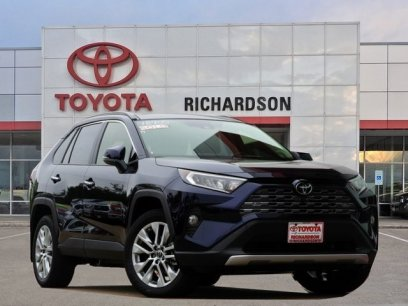Toyota RAV-4: (27, 111, 381, 299)
